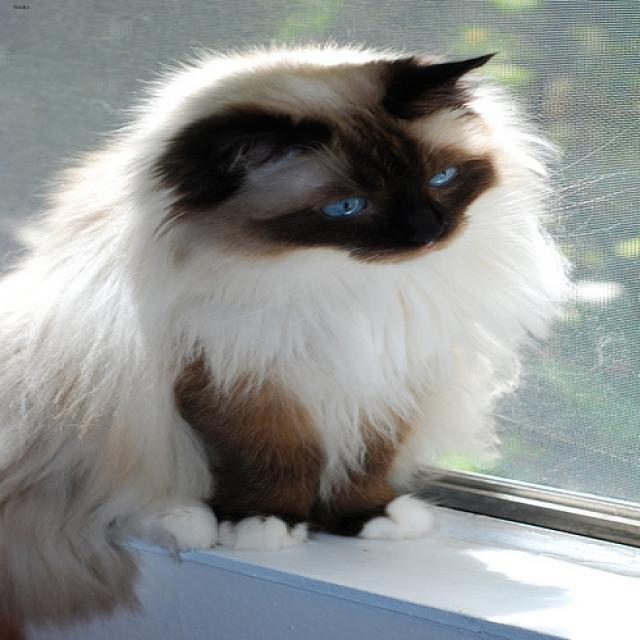Birman: (129, 45, 531, 295)
